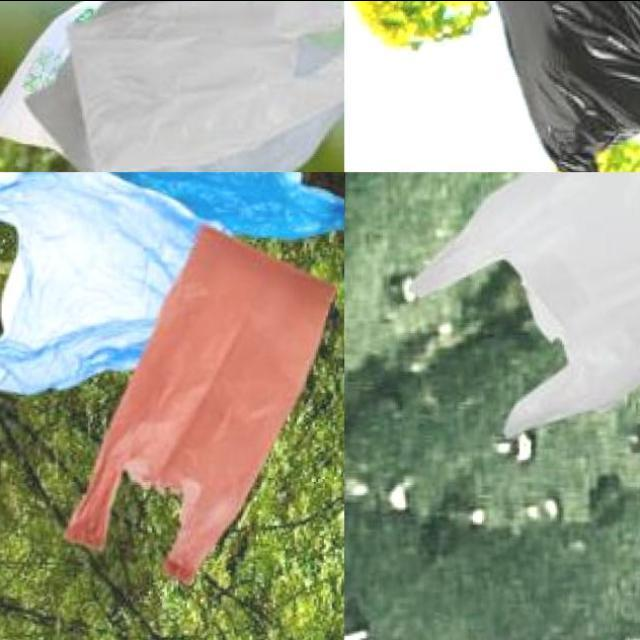plastik: (66, 225, 334, 582), (0, 172, 343, 393), (406, 172, 640, 436), (0, 0, 342, 170), (498, 0, 640, 170)
